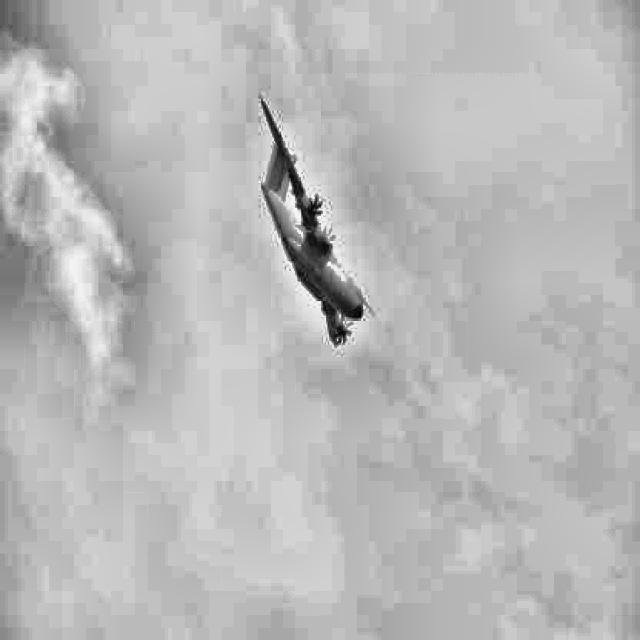A400M: (258, 93, 374, 347)
